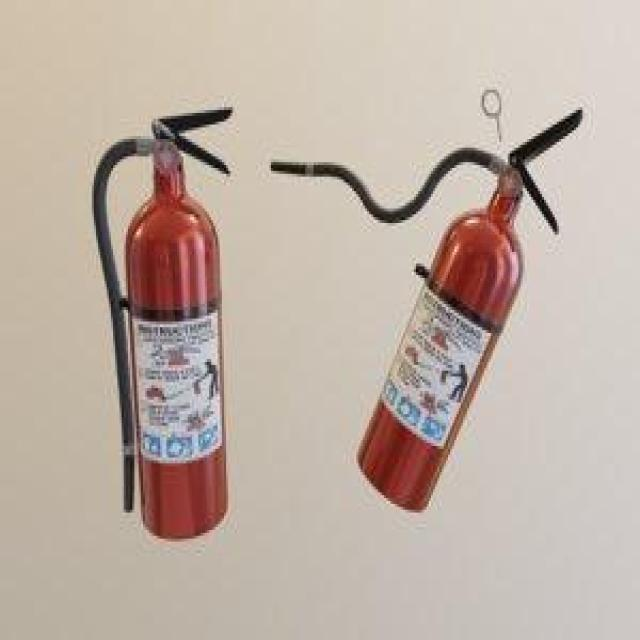fire_extinguisher: (262, 98, 584, 516), (86, 97, 237, 540)
